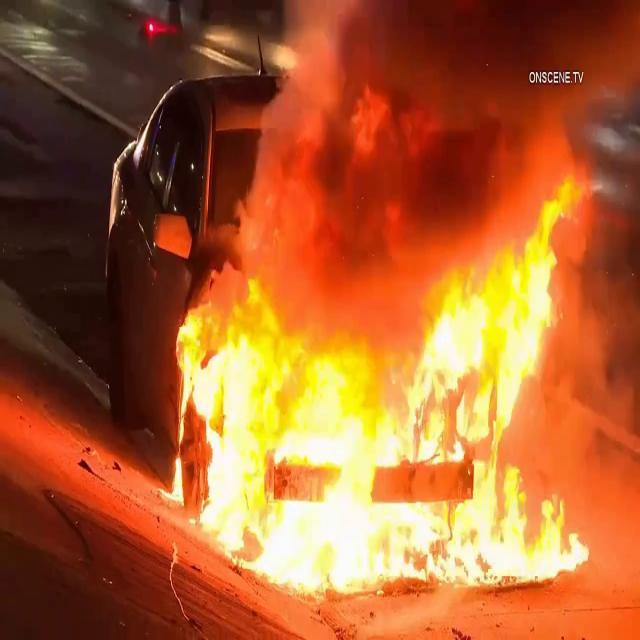Fire: (167, 173, 608, 599)
Smoke: (230, 0, 632, 296), (560, 16, 640, 579)
